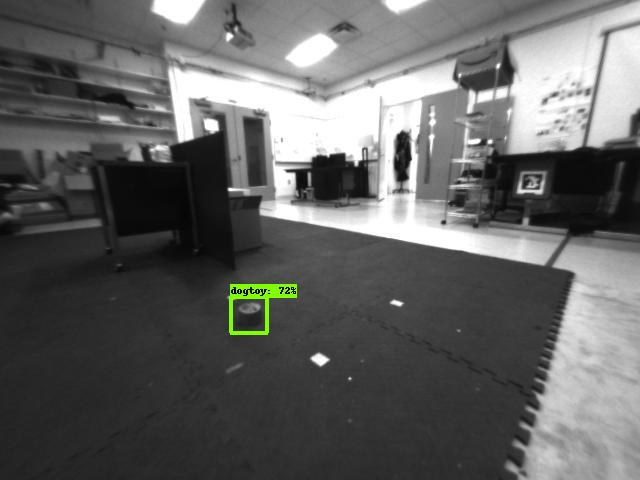dogtoy: (222, 302, 274, 332)
